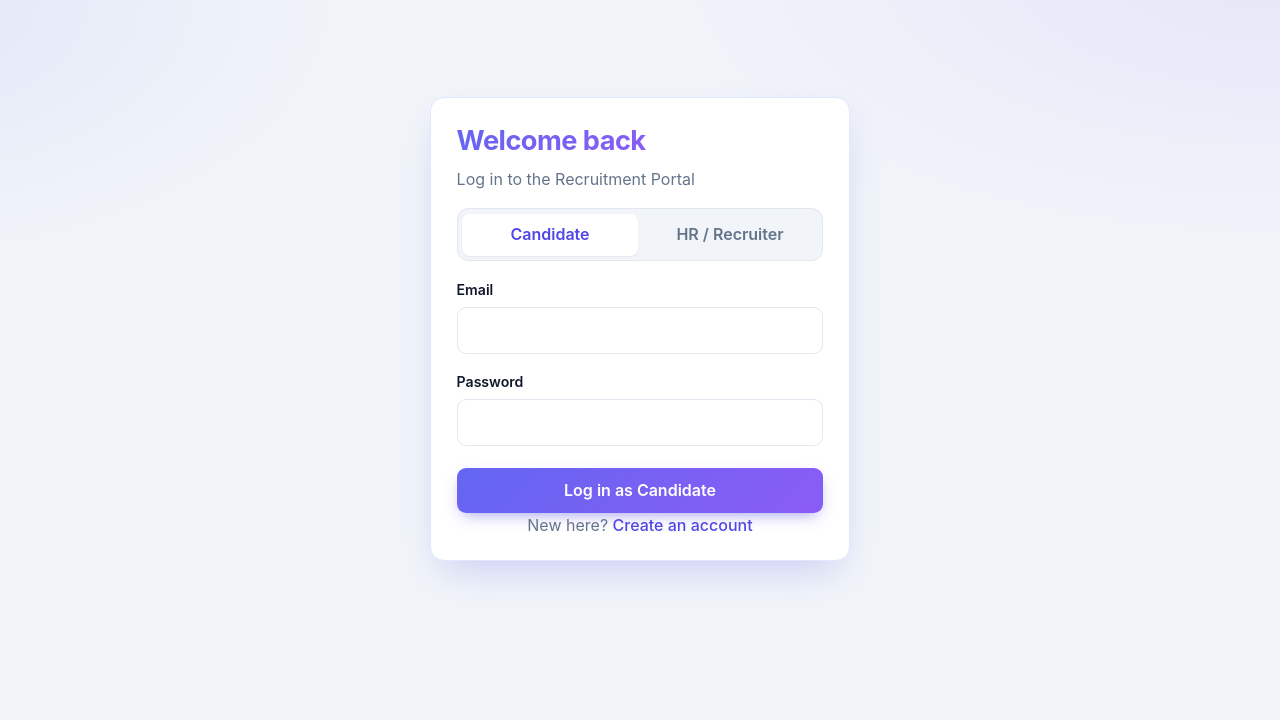
Test: Login page › warns when logging into an HR account from the Candidate tab
The image size is (1280, 720).
Type "admin@test.com" into the field labelled "Email".
click(640, 331); type("admin@test.com")  # box [457, 307, 823, 354]
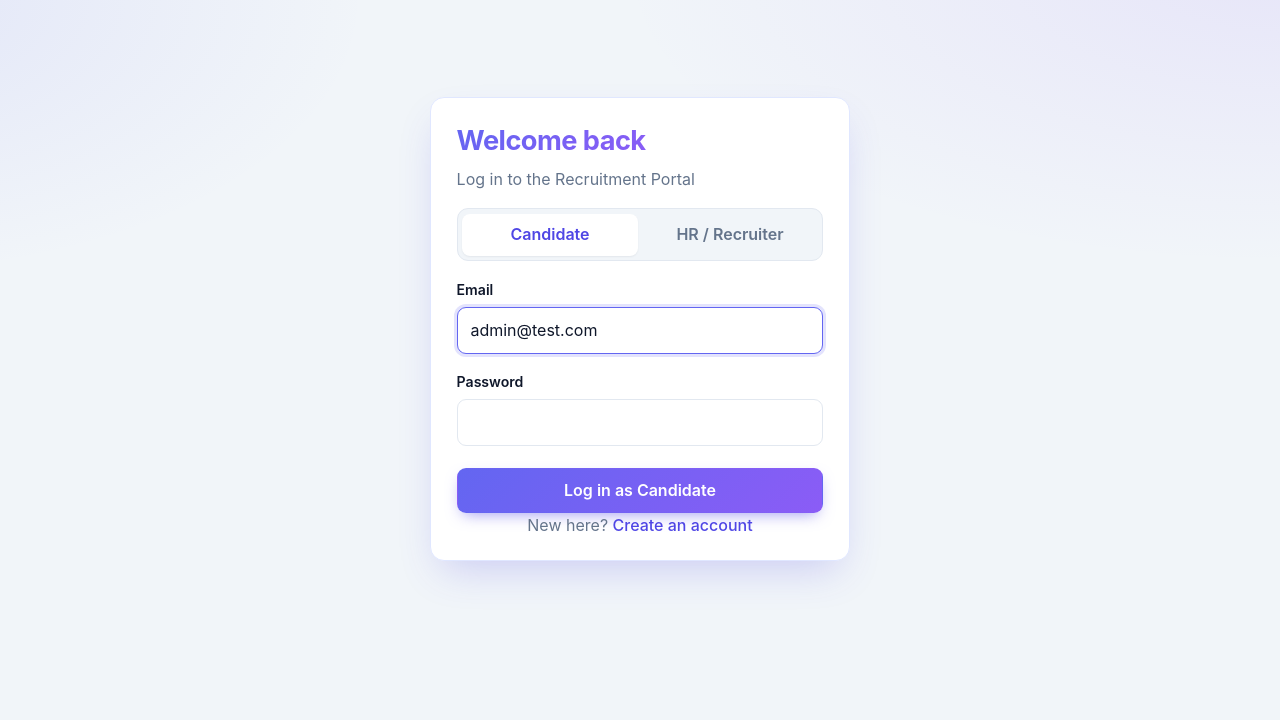
Type "Admin@1234" into the password field labelled "Password".
click(640, 422); type("Admin@1234")  # box [457, 399, 823, 446]
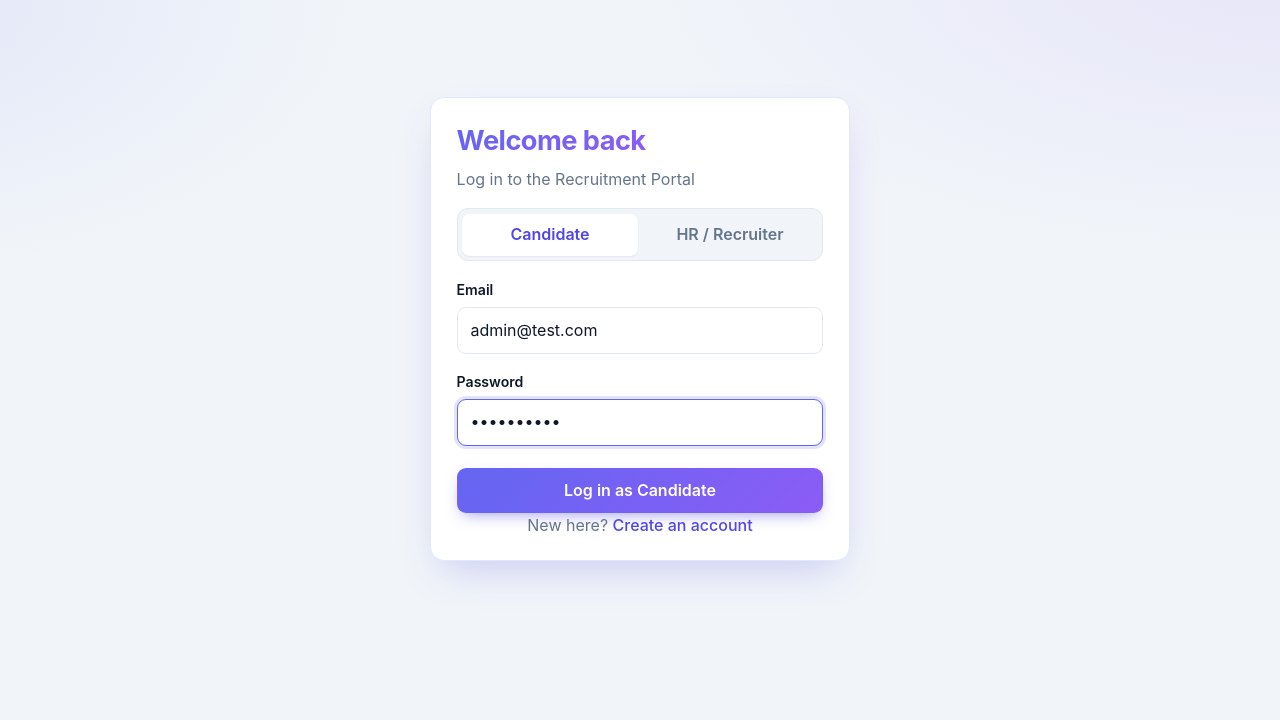
Click the button "Log in as Candidate".
click(640, 491)  # box [457, 468, 823, 513]
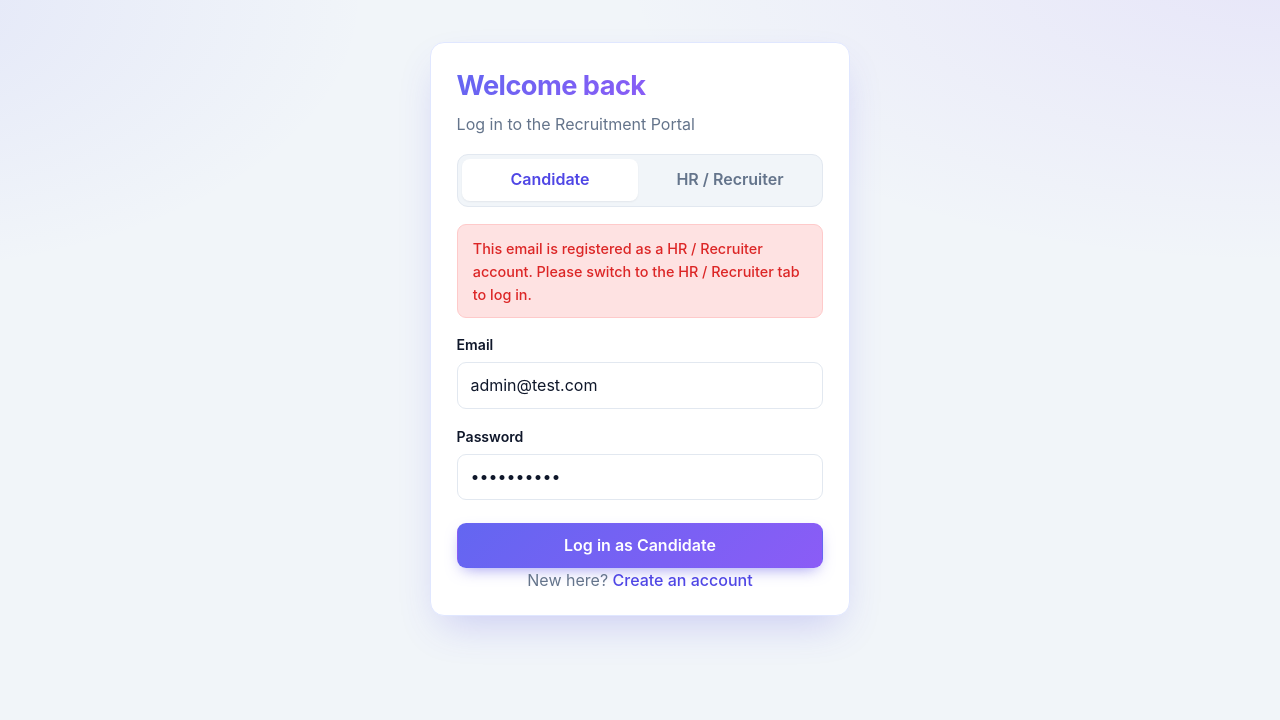
Now the text "registered as a HR / Recruiter account" is shown, box [473, 240, 800, 303]
